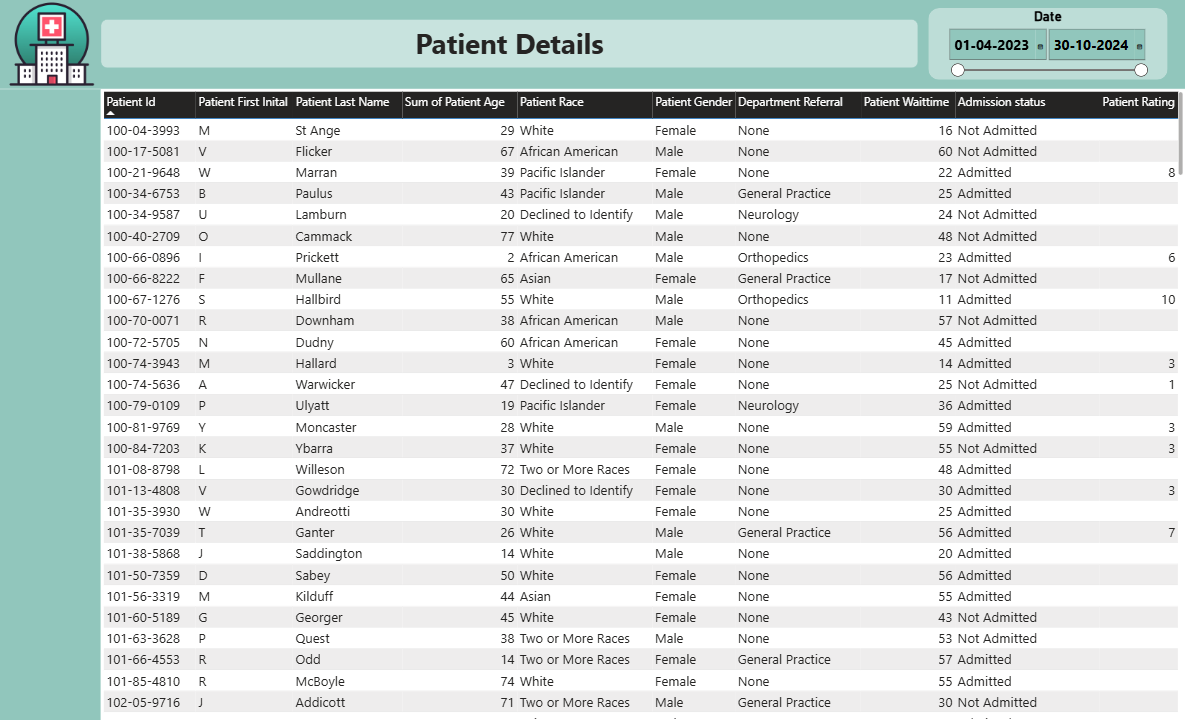

Layout of this report page (visuals, bound fields, positions):
{"tool":"powerbi","page":{"name":"Patient details","canvas":[2300,1400],"ordinal":1},"visuals":[{"type":"shape","box":[0,0,2300,175.6],"z":0},{"type":"shape","box":[0,176.6,200.8,1223.9],"z":1000},{"type":"image","box":[12.2,0,187.8,178],"z":2000},{"type":"textbox","box":[200.8,41.1,1581.9,94.3],"z":3000},{"type":"shape","box":[1802.4,19.5,463.4,139],"z":4000},{"type":"slicer","title":"Date","fields":{"Values":["Hospital ER_Data.Patient Admission Date"]},"box":[1831.7,19.5,404.9,139],"z":5000},{"type":"tableEx","fields":{"Values":["Hospital ER_Data.Patient Id","Hospital ER_Data.Patient First Inital","Hospital ER_Data.Patient Last Name","Hospital ER_Data.Patient Age","Hospital ER_Data.Patient Race","Hospital ER_Data.Patient Gender","Hospital ER_Data.Department Referral","Hospital ER_Data.Patient Waittime","Hospital ER_Data.Admission status","Hospital ER_Data.Patient Satisfaction Score"]},"box":[201,177,2099,1223],"z":6000}]}

Visuals, with their boxes in screenshot pixels (x1, y1, x2, y2), scaled from the page's 2300x1400 canvas onto the 1185x720 screenshot:
shape: bbox=(0, 0, 1184, 90)
shape: bbox=(0, 91, 103, 719)
image: bbox=(6, 0, 103, 92)
textbox: bbox=(103, 21, 918, 70)
shape: bbox=(929, 10, 1167, 82)
"Date" slicer: bbox=(944, 10, 1152, 82)
tableEx - Hospital ER_Data.Patient Id x Hospital ER_Data.Patient First Inital: bbox=(104, 91, 1184, 719)
